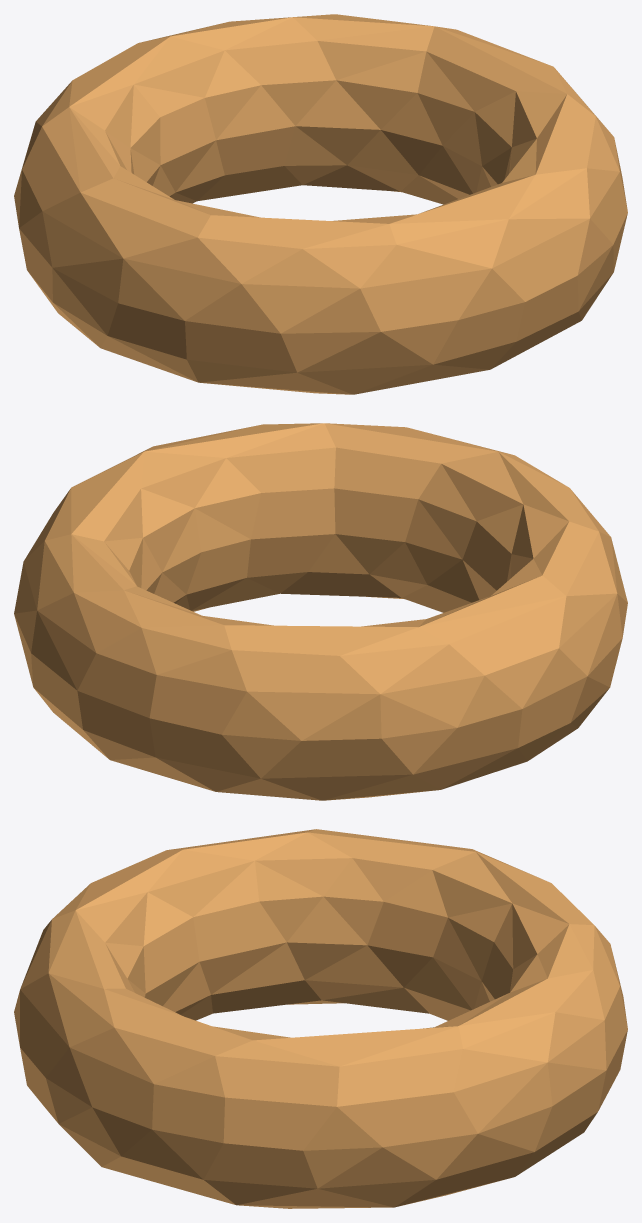
The model's file is Kitchen_Ingrediences_Cerial_O_s.fbx.
The picture shows the model from 3 angles, top to bottom: view 1: azimuth 30°, elevation 25°; view 2: azimuth 150°, elevation 25°; view 3: azimuth 270°, elevation 25°; orthographic projection.
Parts seen in each view (by area): view 1: O:s; view 2: O:s; view 3: O:s.
Boxes of the visible parts, x1,y1,x2,y2 form: O:s: (14, 14, 627, 394); O:s: (14, 423, 627, 800); O:s: (14, 829, 627, 1208).
Bounding box in the file's own units: 1 × 0.3007 × 0.9998.
